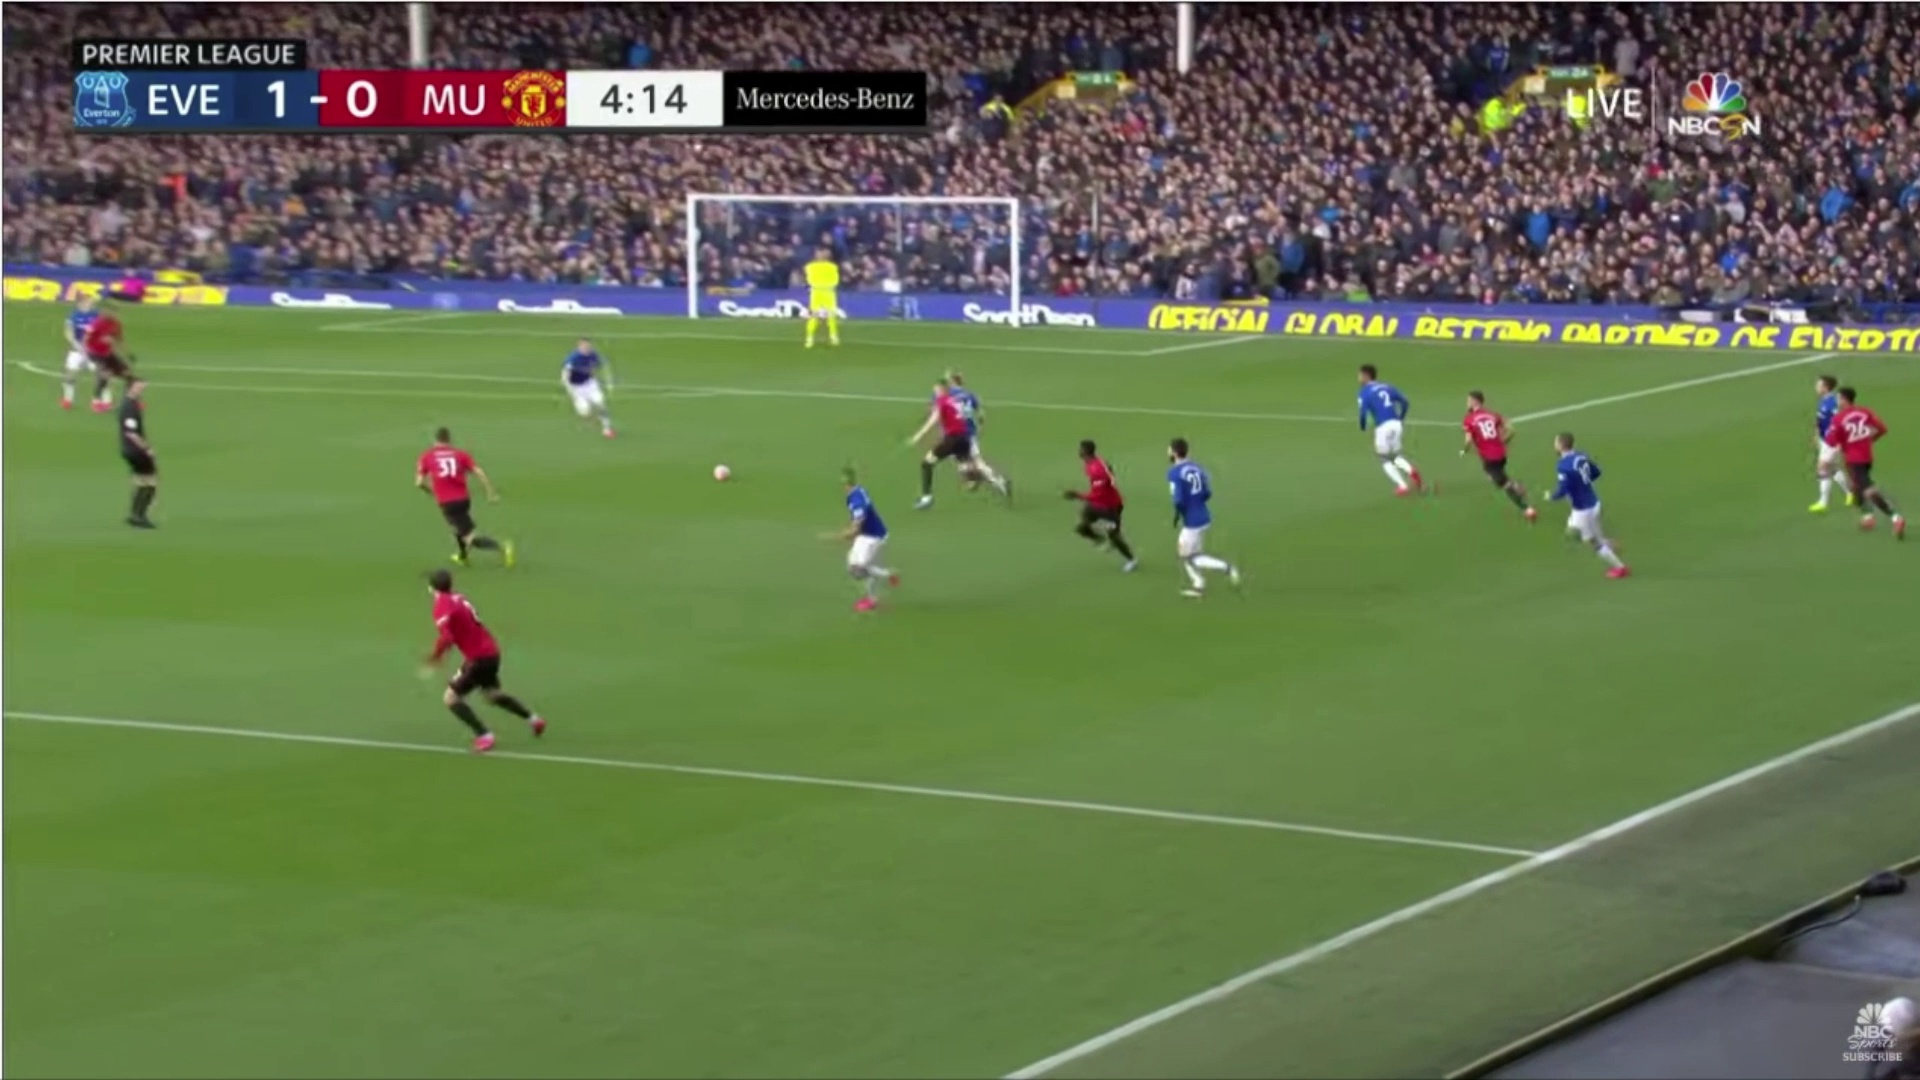ball: (700, 446, 741, 490)
player: (400, 552, 558, 756), (387, 412, 533, 571), (1127, 429, 1258, 596), (1525, 412, 1641, 583), (1327, 337, 1437, 513), (818, 454, 918, 633), (1454, 371, 1543, 569), (1825, 375, 1910, 554), (1050, 427, 1149, 579), (933, 356, 1024, 506), (535, 329, 629, 446), (908, 377, 981, 519), (785, 229, 864, 352), (1793, 362, 1854, 515), (85, 296, 147, 431), (60, 281, 104, 413)
